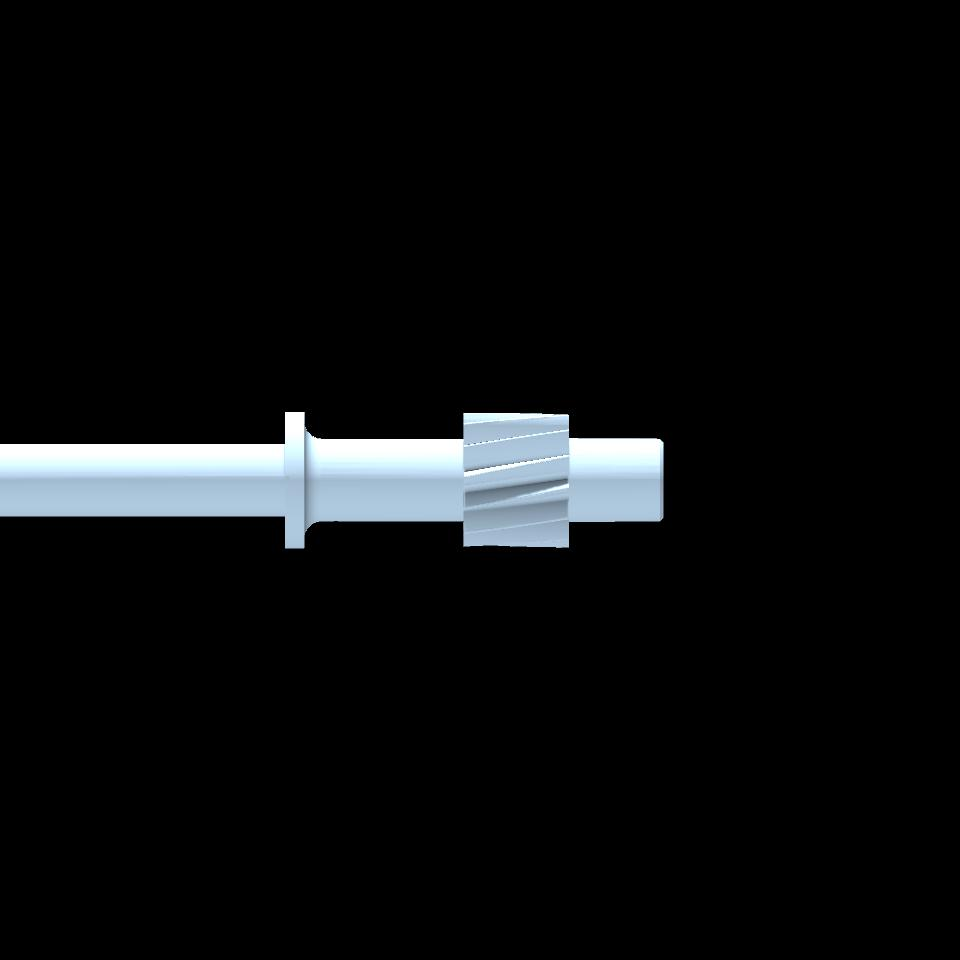Helical: (464, 411, 570, 549)
